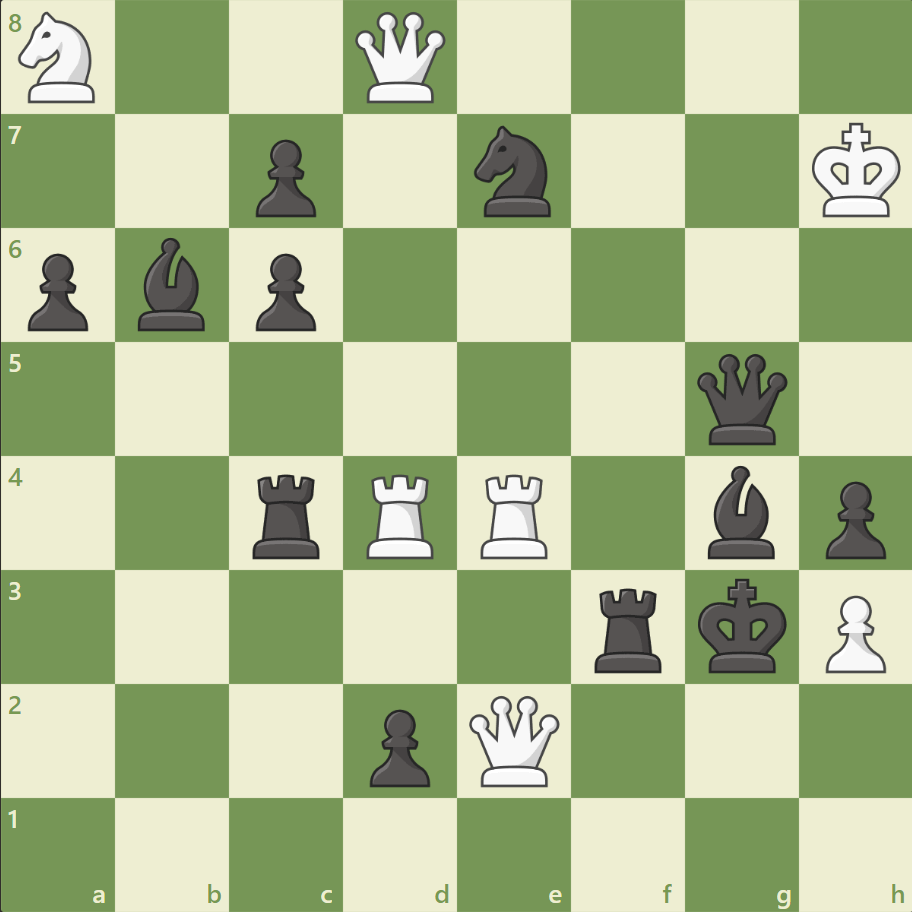K: (806, 117, 906, 225)
N: (11, 7, 108, 110)
P: (815, 586, 889, 677)
Q: (351, 9, 450, 108), (464, 690, 563, 789)
R: (473, 466, 556, 563), (360, 466, 442, 563)
b: (131, 233, 215, 336), (698, 460, 782, 563)
k: (692, 571, 792, 679)
n: (465, 121, 562, 223)
p: (247, 132, 322, 223), (20, 246, 95, 337), (247, 246, 322, 337), (815, 473, 889, 564), (361, 700, 435, 791)
q: (691, 349, 790, 449)
r: (246, 466, 329, 563), (587, 579, 670, 676)
